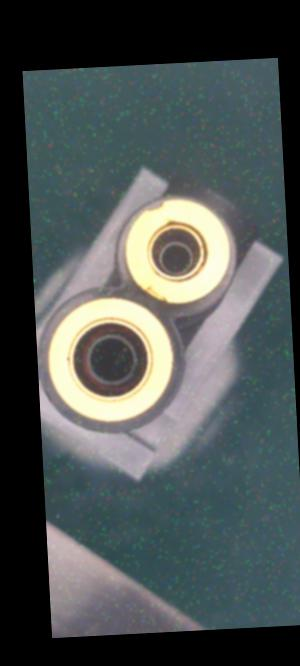bump: (136, 280, 177, 307), (144, 199, 166, 214)
